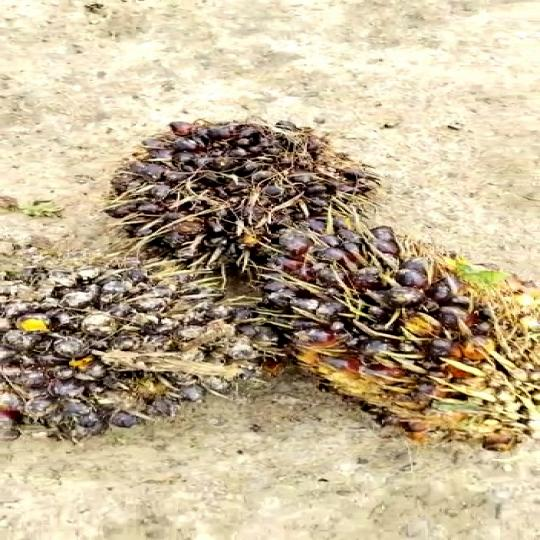mentah: (233, 224, 522, 458), (0, 258, 272, 431), (96, 122, 367, 273)
